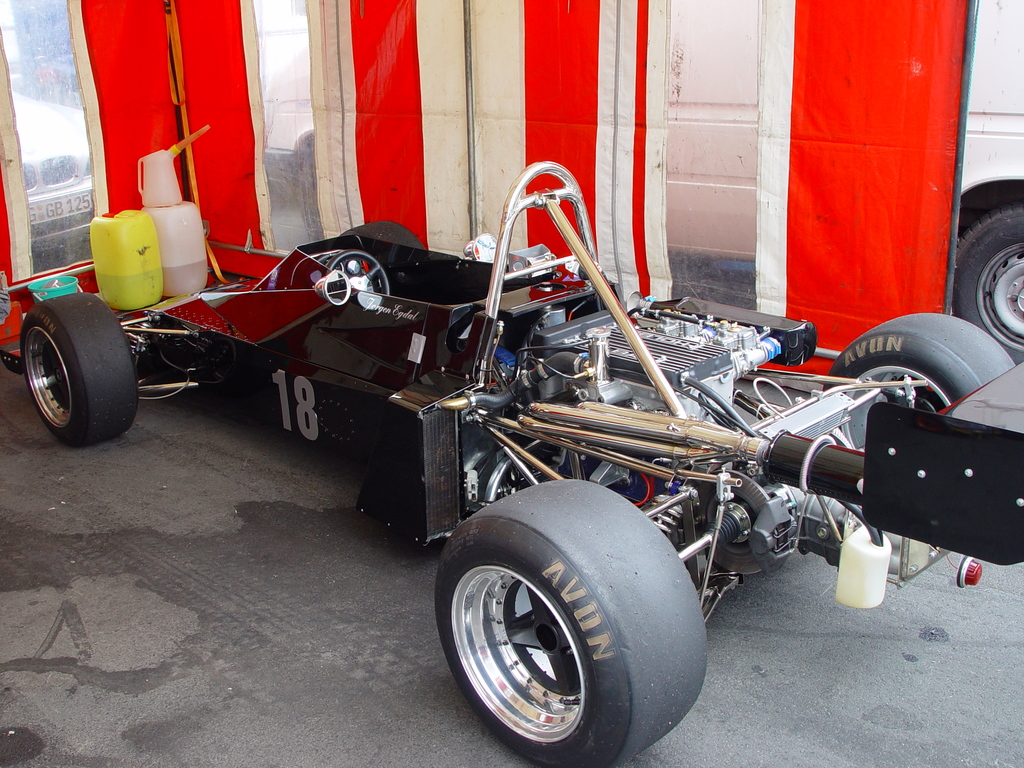Car: (90, 141, 952, 727)
